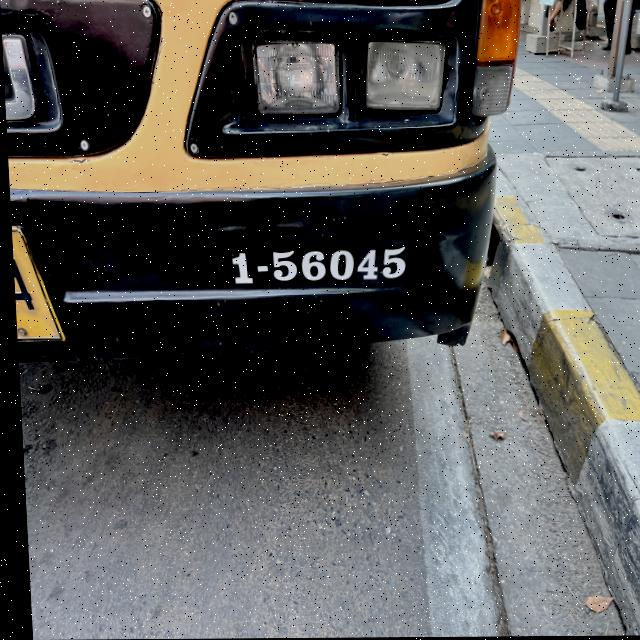BMTA-bus: (0, 0, 505, 367)
Bus Side Number: (214, 240, 415, 297)
